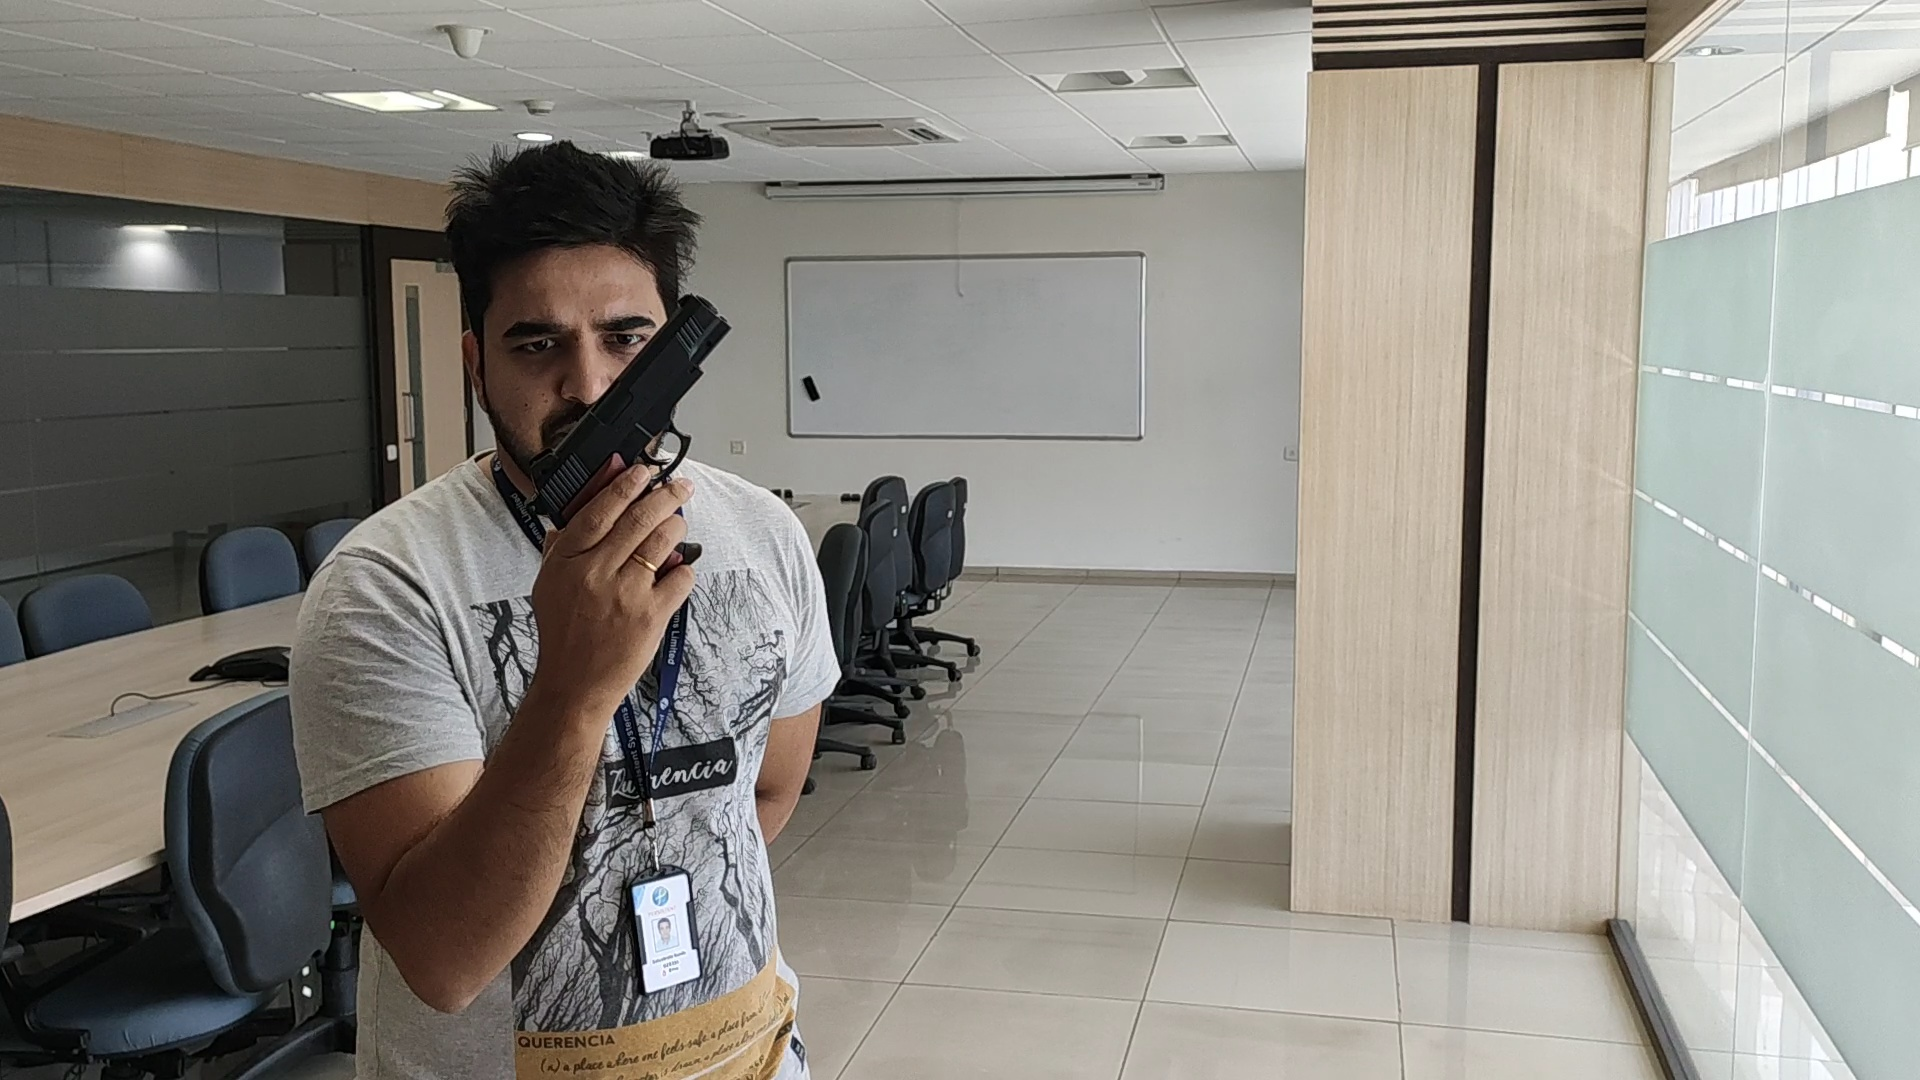gun: (529, 291, 731, 462)
